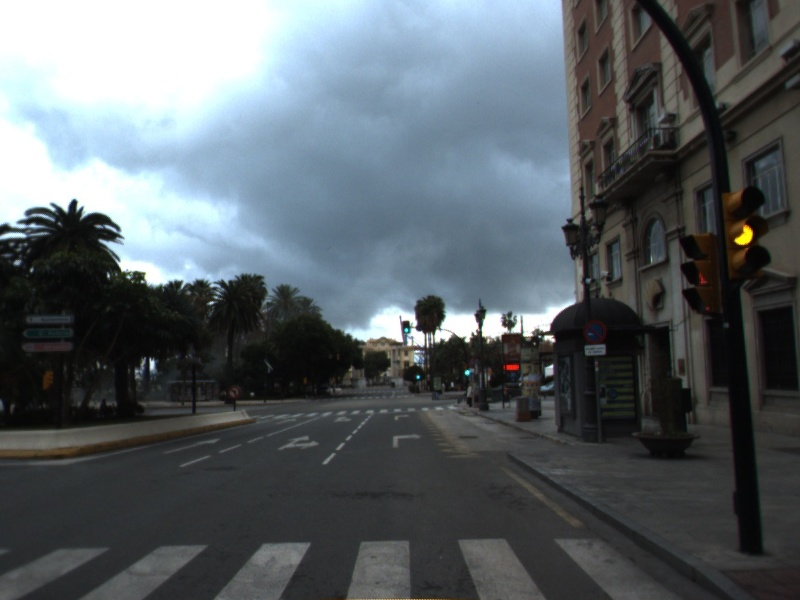RIGHT: (390, 431, 423, 450), (392, 412, 412, 422)
STRAIGHT: (160, 435, 224, 456), (274, 417, 298, 426)
STRAIGHT_RIGHT: (275, 433, 322, 452), (331, 414, 354, 424)
